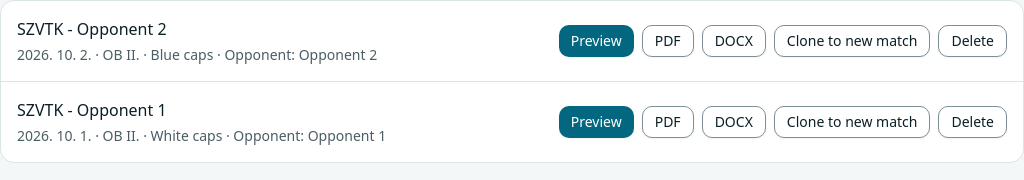
it: SavedLineups › deletes a lineup after a confirm and reloads the list
Click the button with aria-label "Delete SZVTK - Opponent 1". click: coordinates (973, 122)
box: [938, 106, 1007, 138]
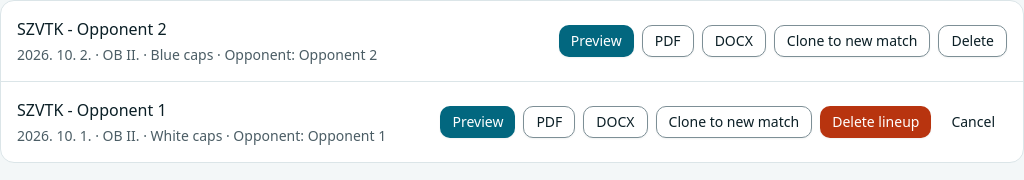
Click the button "Delete lineup". click: coordinates (876, 122)
box: [820, 106, 932, 138]
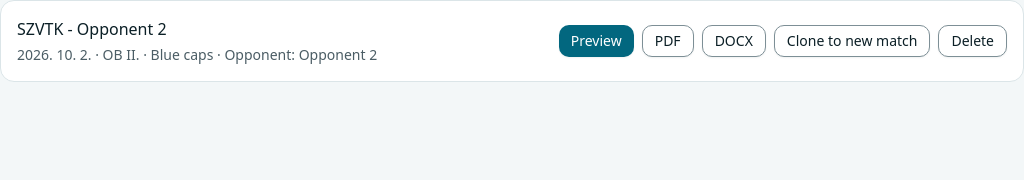
Expected: the text "SZVTK - Opponent 1" is gone
